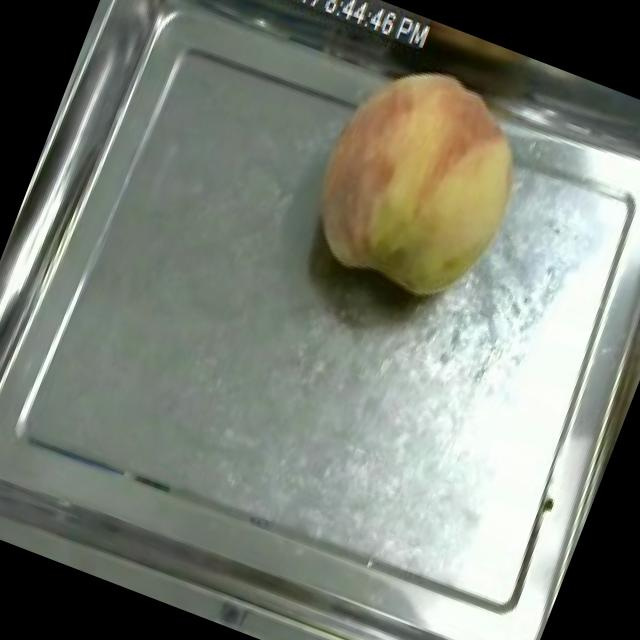Fruit: (282, 34, 558, 328)
